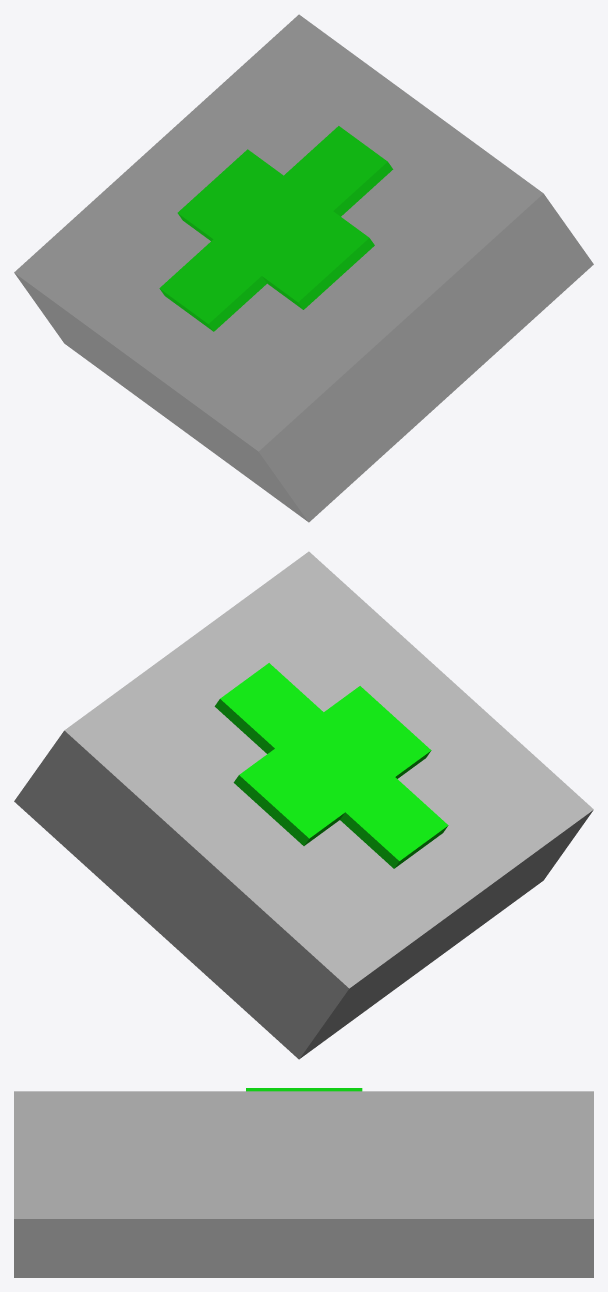
The model's file is medkit.fbx.
3 renders of one model, top to bottom at view 1: azimuth 30°, elevation 25°; view 2: azimuth 150°, elevation 25°; view 3: azimuth 270°, elevation 25°, orthographic. The views are drawn at different scales.
Parts seen in each view (by area): view 1: Cube; view 2: Cube; view 3: Cube.
Boxes of the visible parts, x1,y1,x2,y2 form: Cube: [14, 14, 593, 522]; Cube: [14, 551, 593, 1059]; Cube: [14, 1088, 593, 1277].
Bounding box in the file's own units: 158 × 123 × 200.
